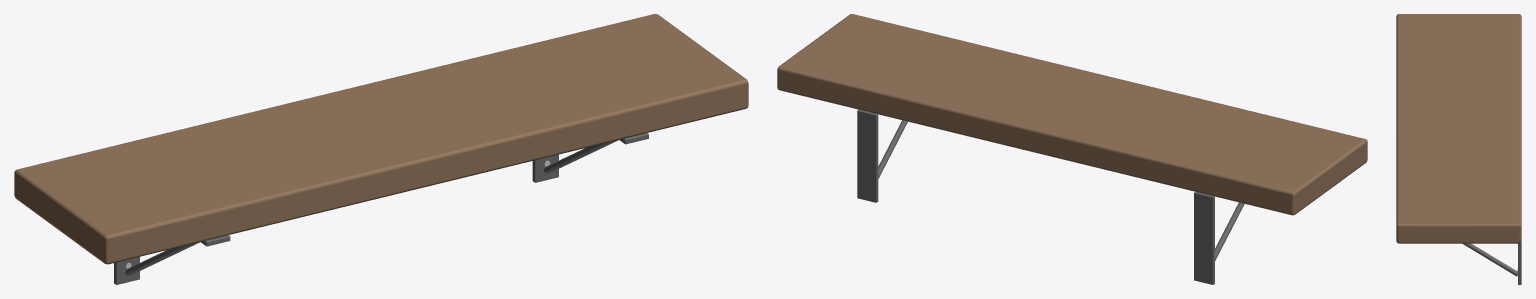
The model's file is furniture_wall_shelf.fbx.
3 views of the same model, side by side, from view 1: azimuth 30°, elevation 25°; view 2: azimuth 150°, elevation 25°; view 3: azimuth 270°, elevation 25° (orthographic). The views are drawn at different scales.
Visible parts, largest first — view 1: furniture_wall_shelf; view 2: furniture_wall_shelf; view 3: furniture_wall_shelf.
Part boxes in pixels (x1,y1,x2,y2): furniture_wall_shelf: (14,14,748,284); furniture_wall_shelf: (777,14,1367,284); furniture_wall_shelf: (1396,14,1521,284).
Size of the model in its own units: 0.8 by 0.165 by 0.2.
